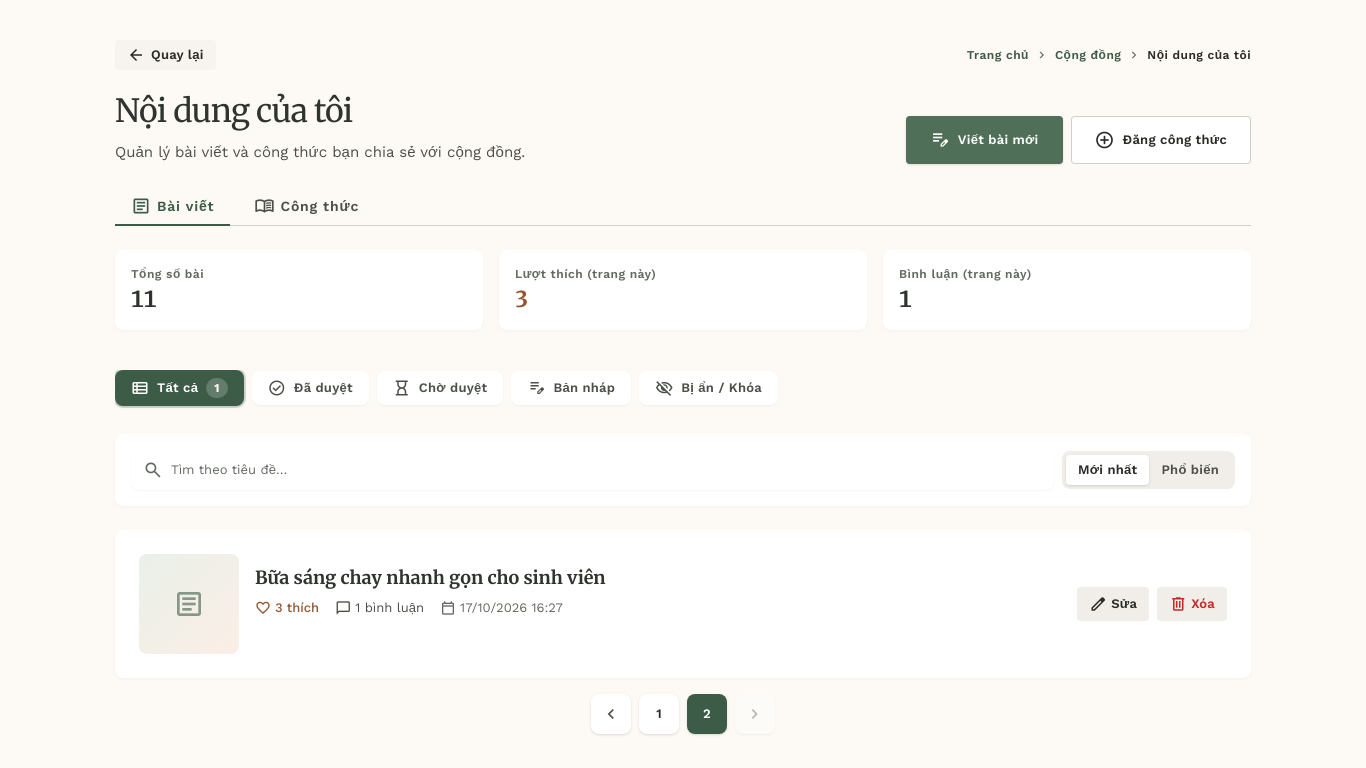
Test: MyContent (Nội dung của tôi) › Thành viên › xóa bài › xóa hết bài ở trang cuối: lùi về trang trước, không báo "Bạn chưa đăng bài nào"
Click the button named "Xóa bài \"Bữa sáng chay nhanh gọn cho sinh viên\"" at [1192, 604], box 1157,587 -> 1227,621
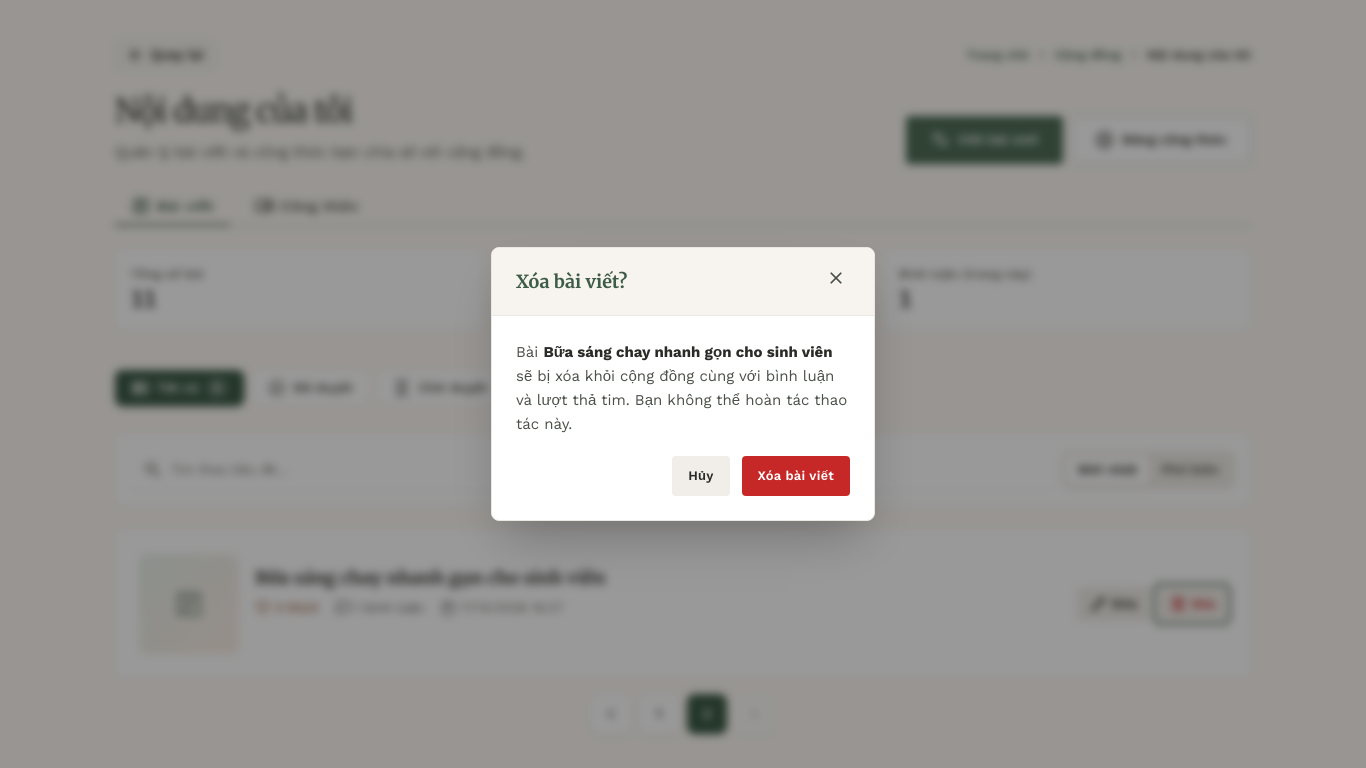
Click the button "Xóa bài viết" at [796, 476], box 742,456 -> 850,496
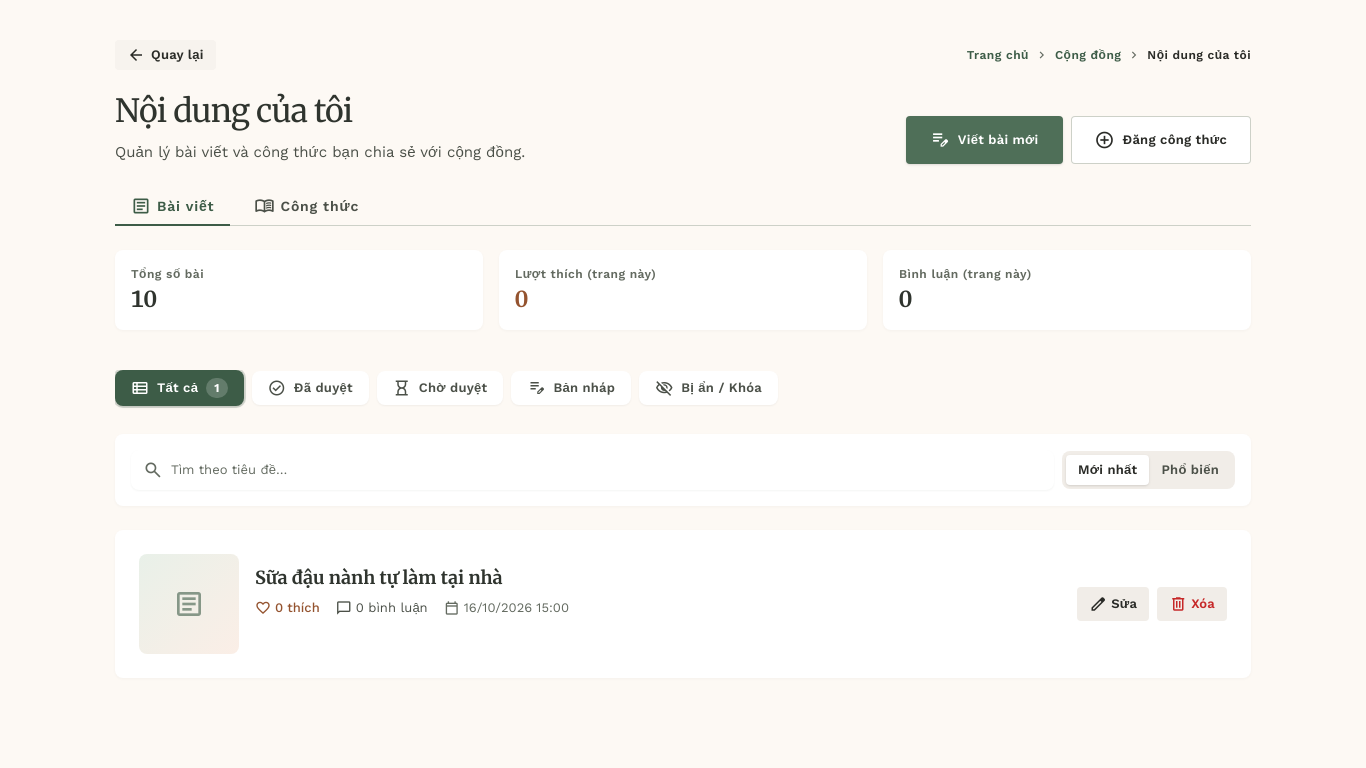
Now the link "Sữa đậu nành tự làm tại nhà" is shown, box 255,566 -> 503,589
